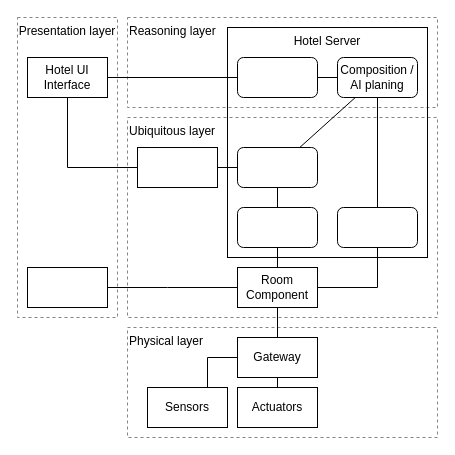
This 455x455 diagram has some shape labels left out. Here are the shapes that lost their labels. From the top down, the centre of each, then its label:
At point 277,77: "Control".
At point 177,167: "Database".
At point 277,167: "Context".
At point 277,227: "Aggregation".
At point 377,227: "Orchestration / Execution".
At point 67,287: "Room UI Interface".
